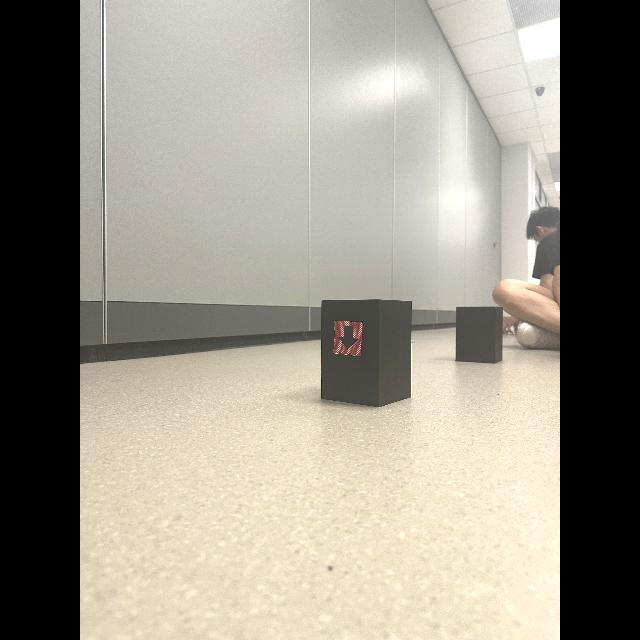DOWN: (338, 326, 358, 350)
